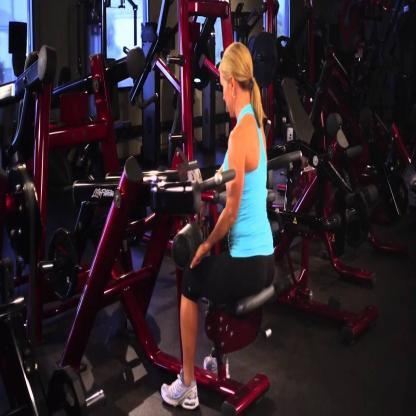seated dip machine: (75, 152, 306, 416)
